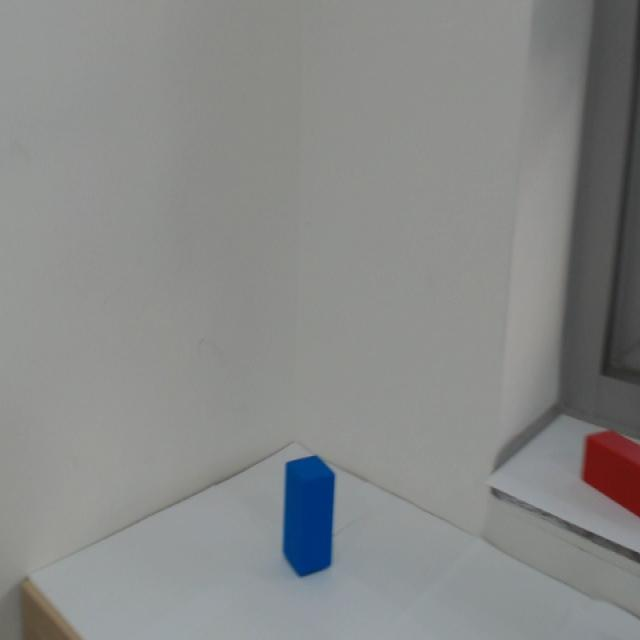cube: (271, 457, 344, 585)
